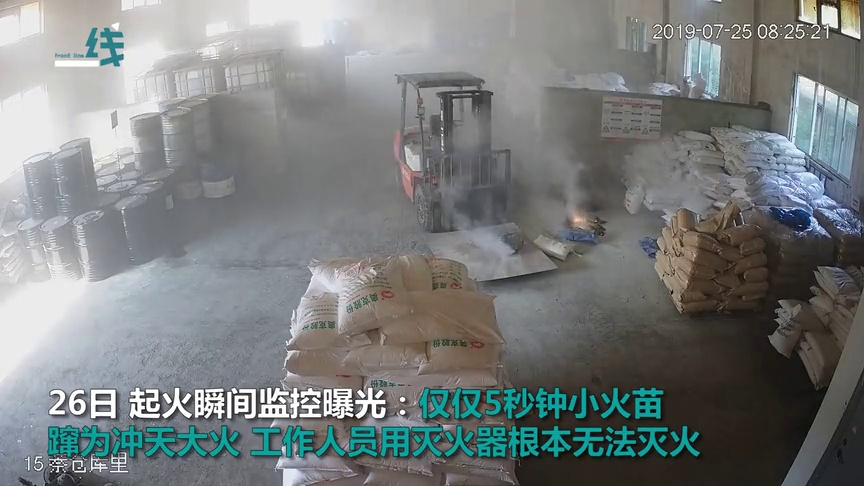smoke: (524, 120, 581, 218), (452, 179, 507, 248)
